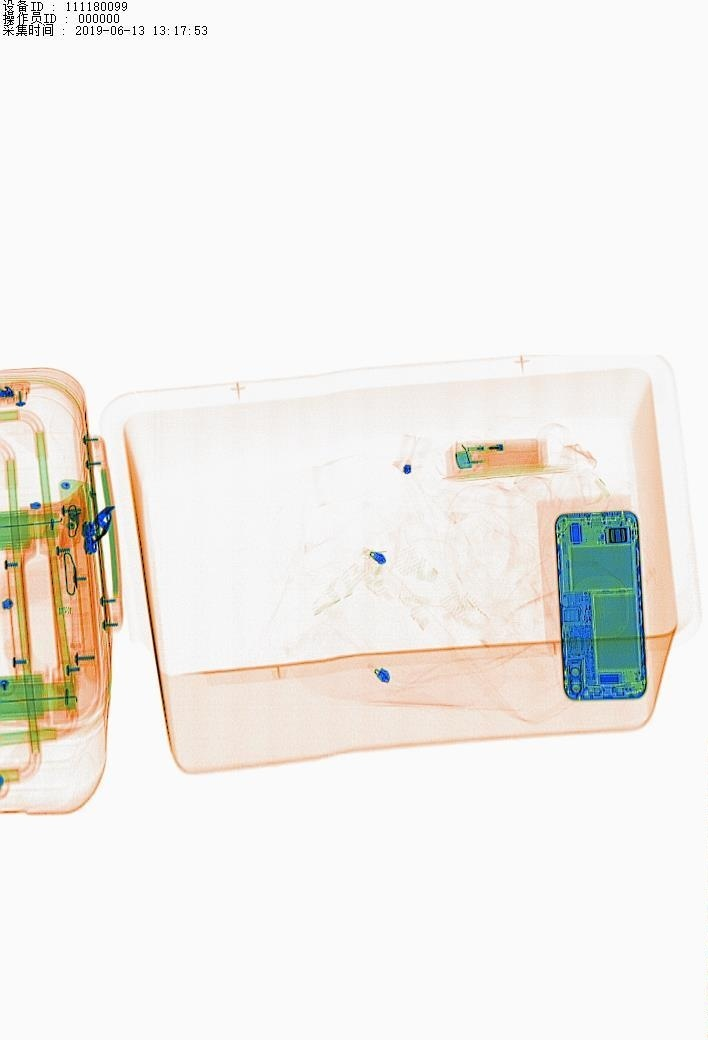NonmetallicFire: (438, 431, 574, 484)
